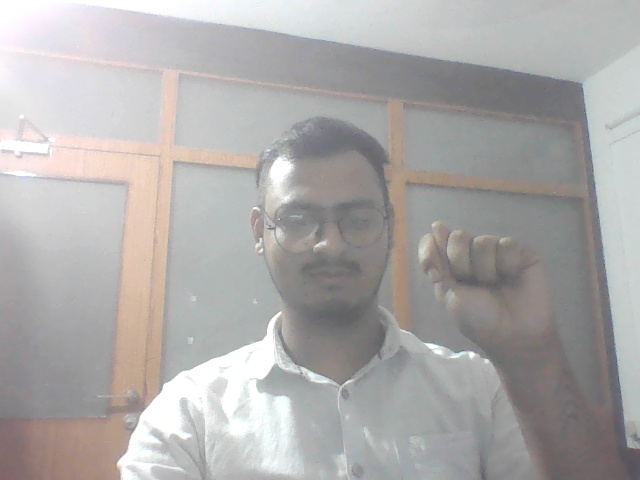Toilet: (413, 218, 564, 367)
